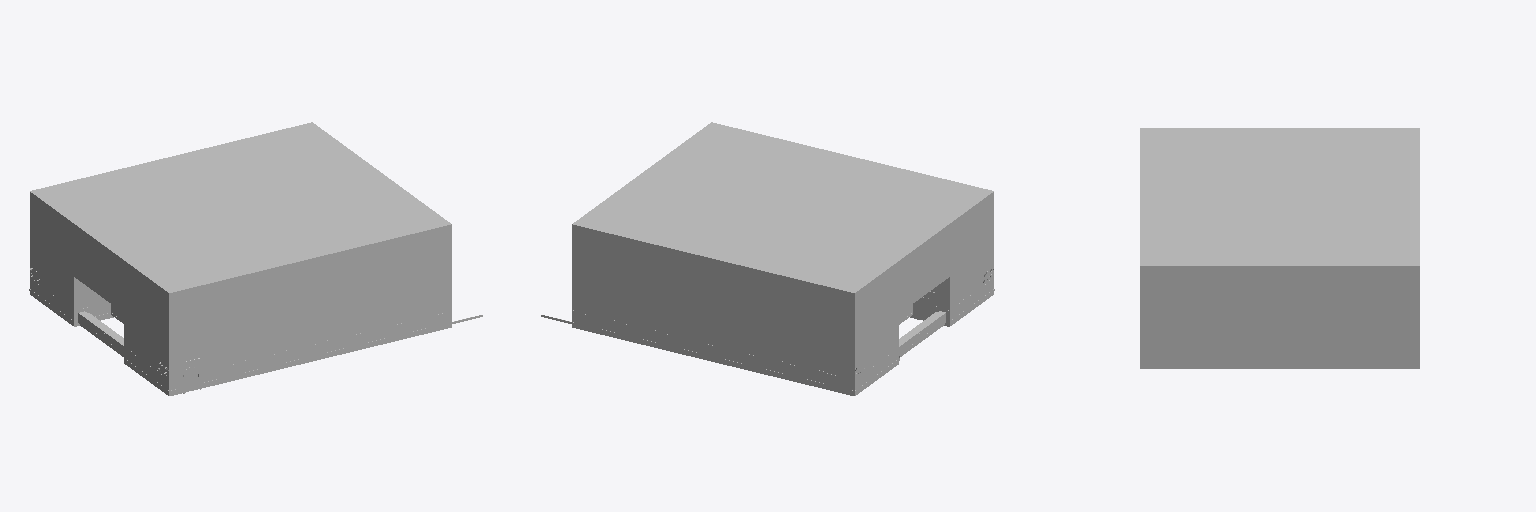
File: Central Wall.obj
3 renders of one model, left to right at view 1: azimuth 30°, elevation 25°; view 2: azimuth 150°, elevation 25°; view 3: azimuth 270°, elevation 25°, orthographic.
Parts seen in each view (by area): view 1: Union10, Union9, Part20; view 2: Union10, Union9, Part14; view 3: Union10, Part4.
Boxes of the visible parts, <box> form: Union10: <box>30,122,451,395</box>; Union9: <box>78,311,123,355</box>; Part20: <box>202,315,482,384</box>; Union10: <box>572,122,993,395</box>; Union9: <box>899,311,945,355</box>; Part14: <box>541,315,854,392</box>; Union10: <box>1140,128,1419,368</box>; Part4: <box>1140,351,1419,352</box>.
Size of the model in its own units: 100 by 31.76 by 77.5.